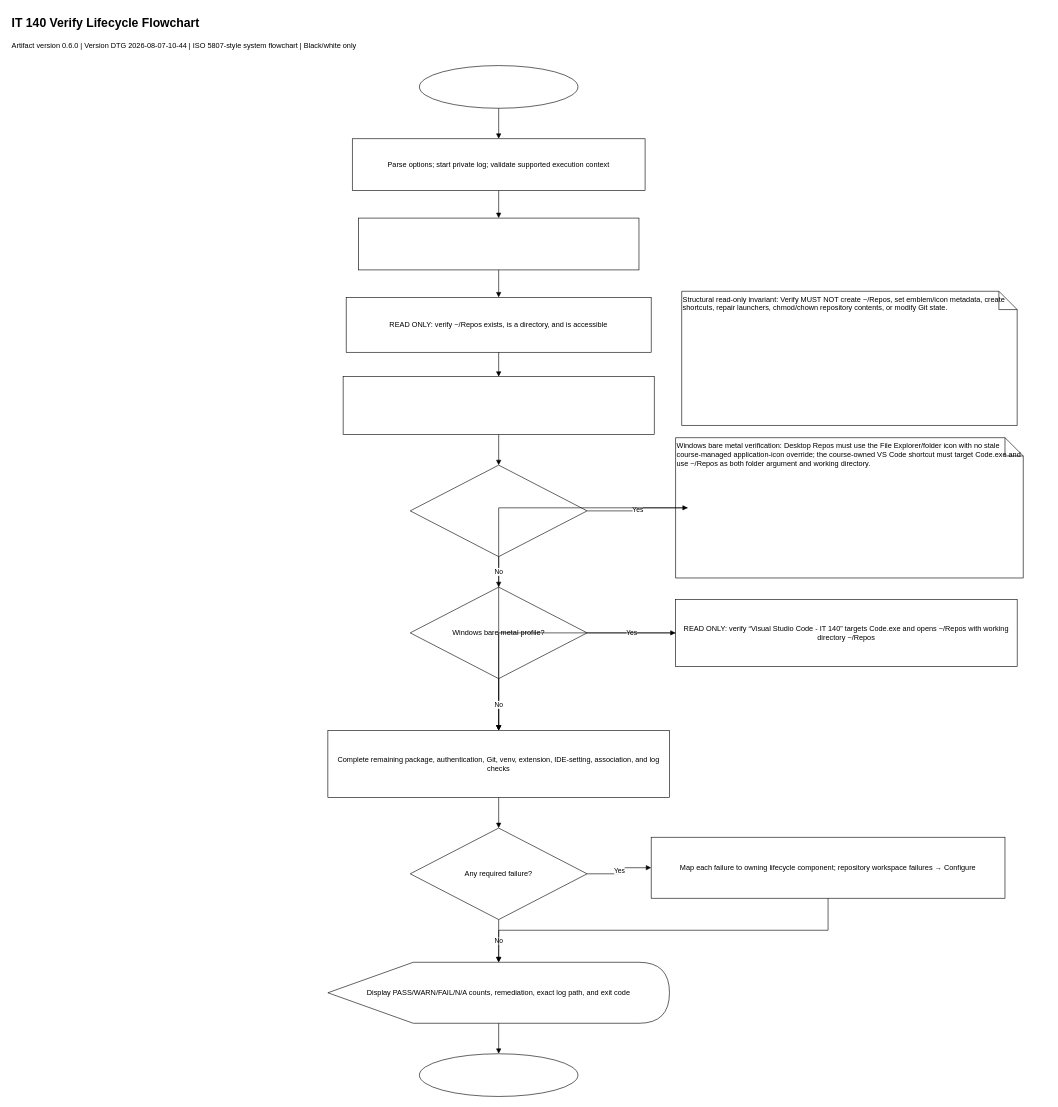
Some shapes in this 1058 by 1107 pixel diagram are drawn without their labels. The centre of each missing label's shape, as x and y in pixels:
"CVD / Xfce profile?" belongs at (x=498, y=511).
"End Verify" belongs at (x=498, y=1074).
"READ ONLY: verify Desktop Repos target and platform-approved visual treatment" belongs at (x=498, y=405).
"Start Verify" belongs at (x=498, y=86).
"Validate manifest and inspect system/user course IDE state" belongs at (x=498, y=243).
